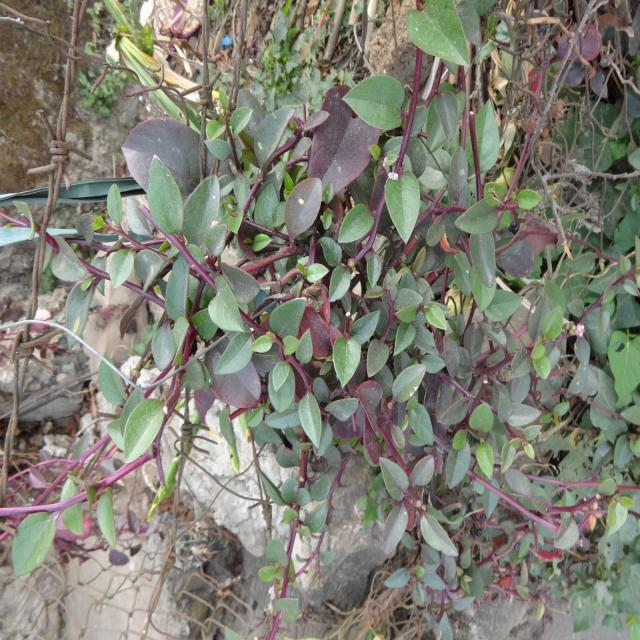Medicinal-Basale: (92, 52, 528, 483)
